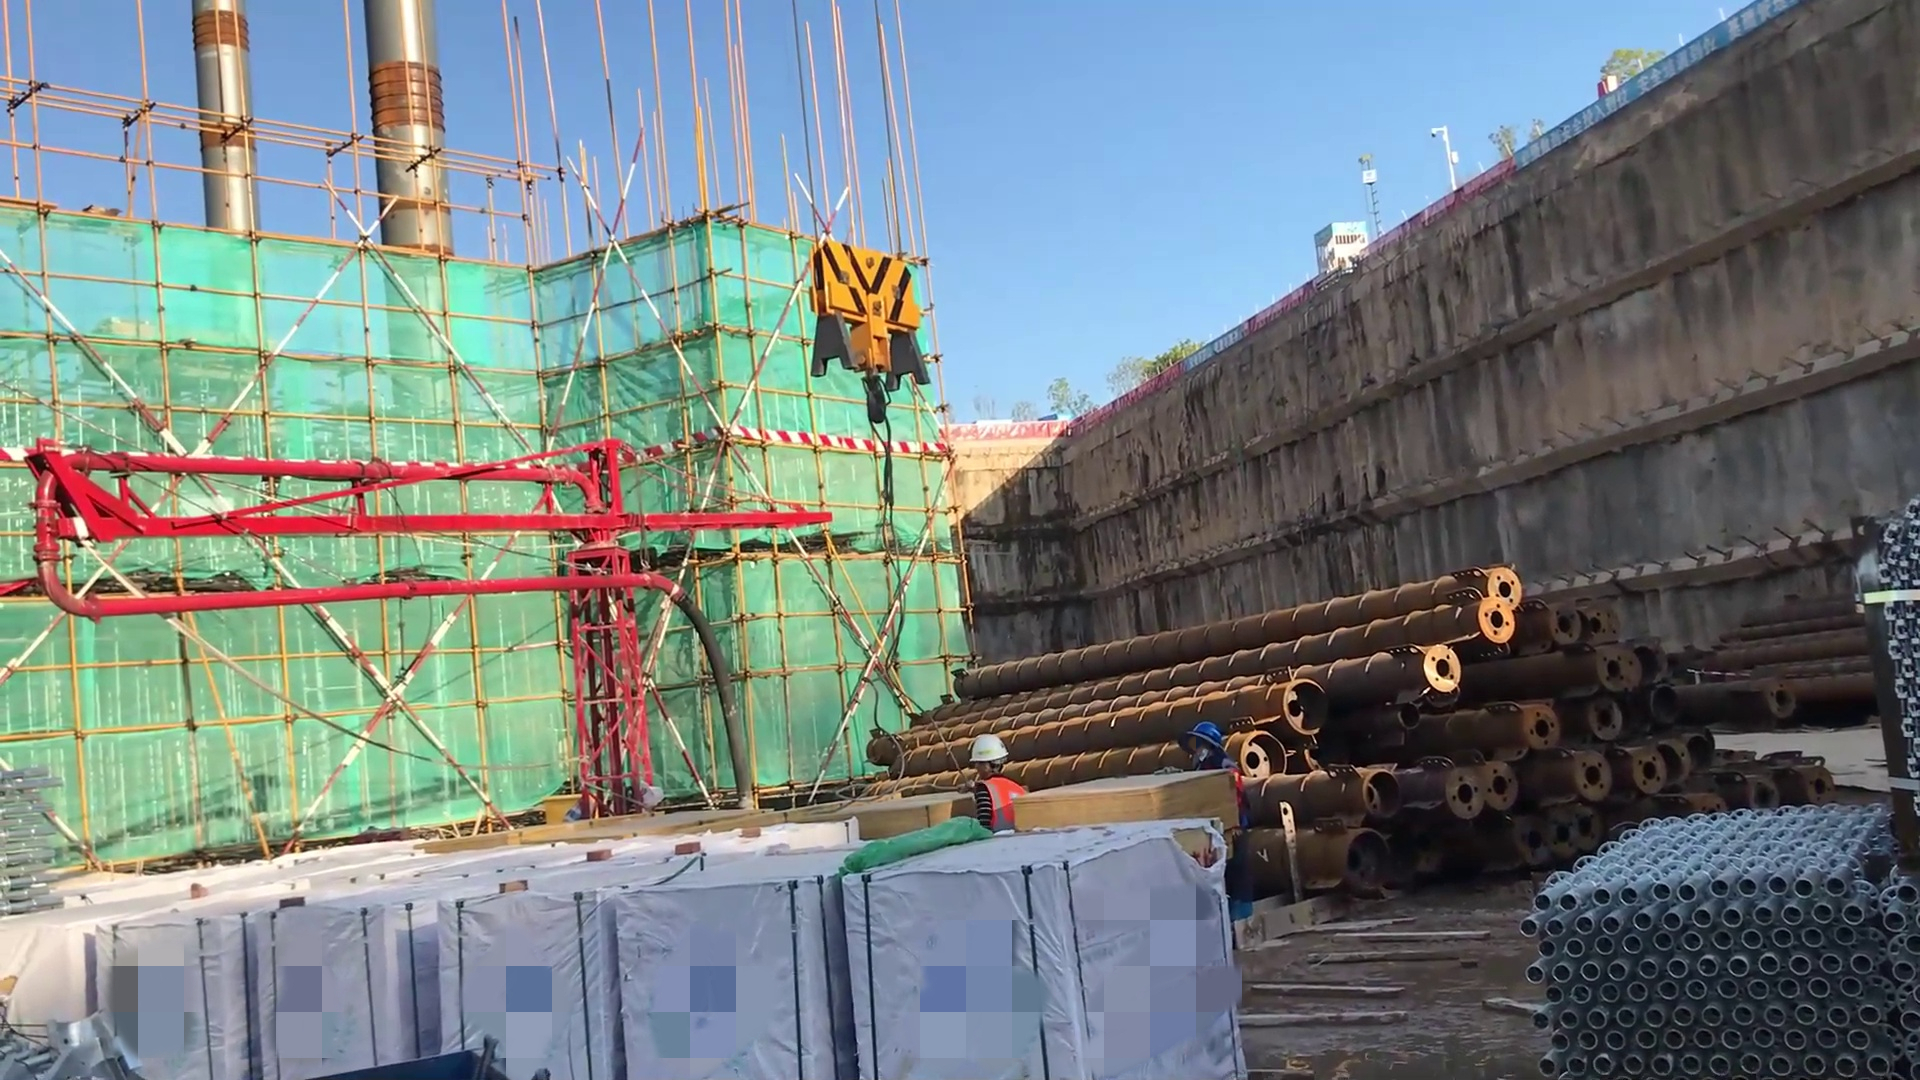board: (1013, 773, 1243, 859)
ebox: (531, 791, 623, 848)
helmet: (1179, 718, 1233, 773), (968, 731, 1015, 777)
hook: (802, 221, 961, 464)
person: (1167, 713, 1266, 957), (952, 732, 1036, 854)
scaffold: (1511, 784, 1920, 1080), (1872, 464, 1920, 782)
slogan: (1506, 1, 1797, 184), (1176, 321, 1259, 374)
vest: (965, 778, 1037, 839)
